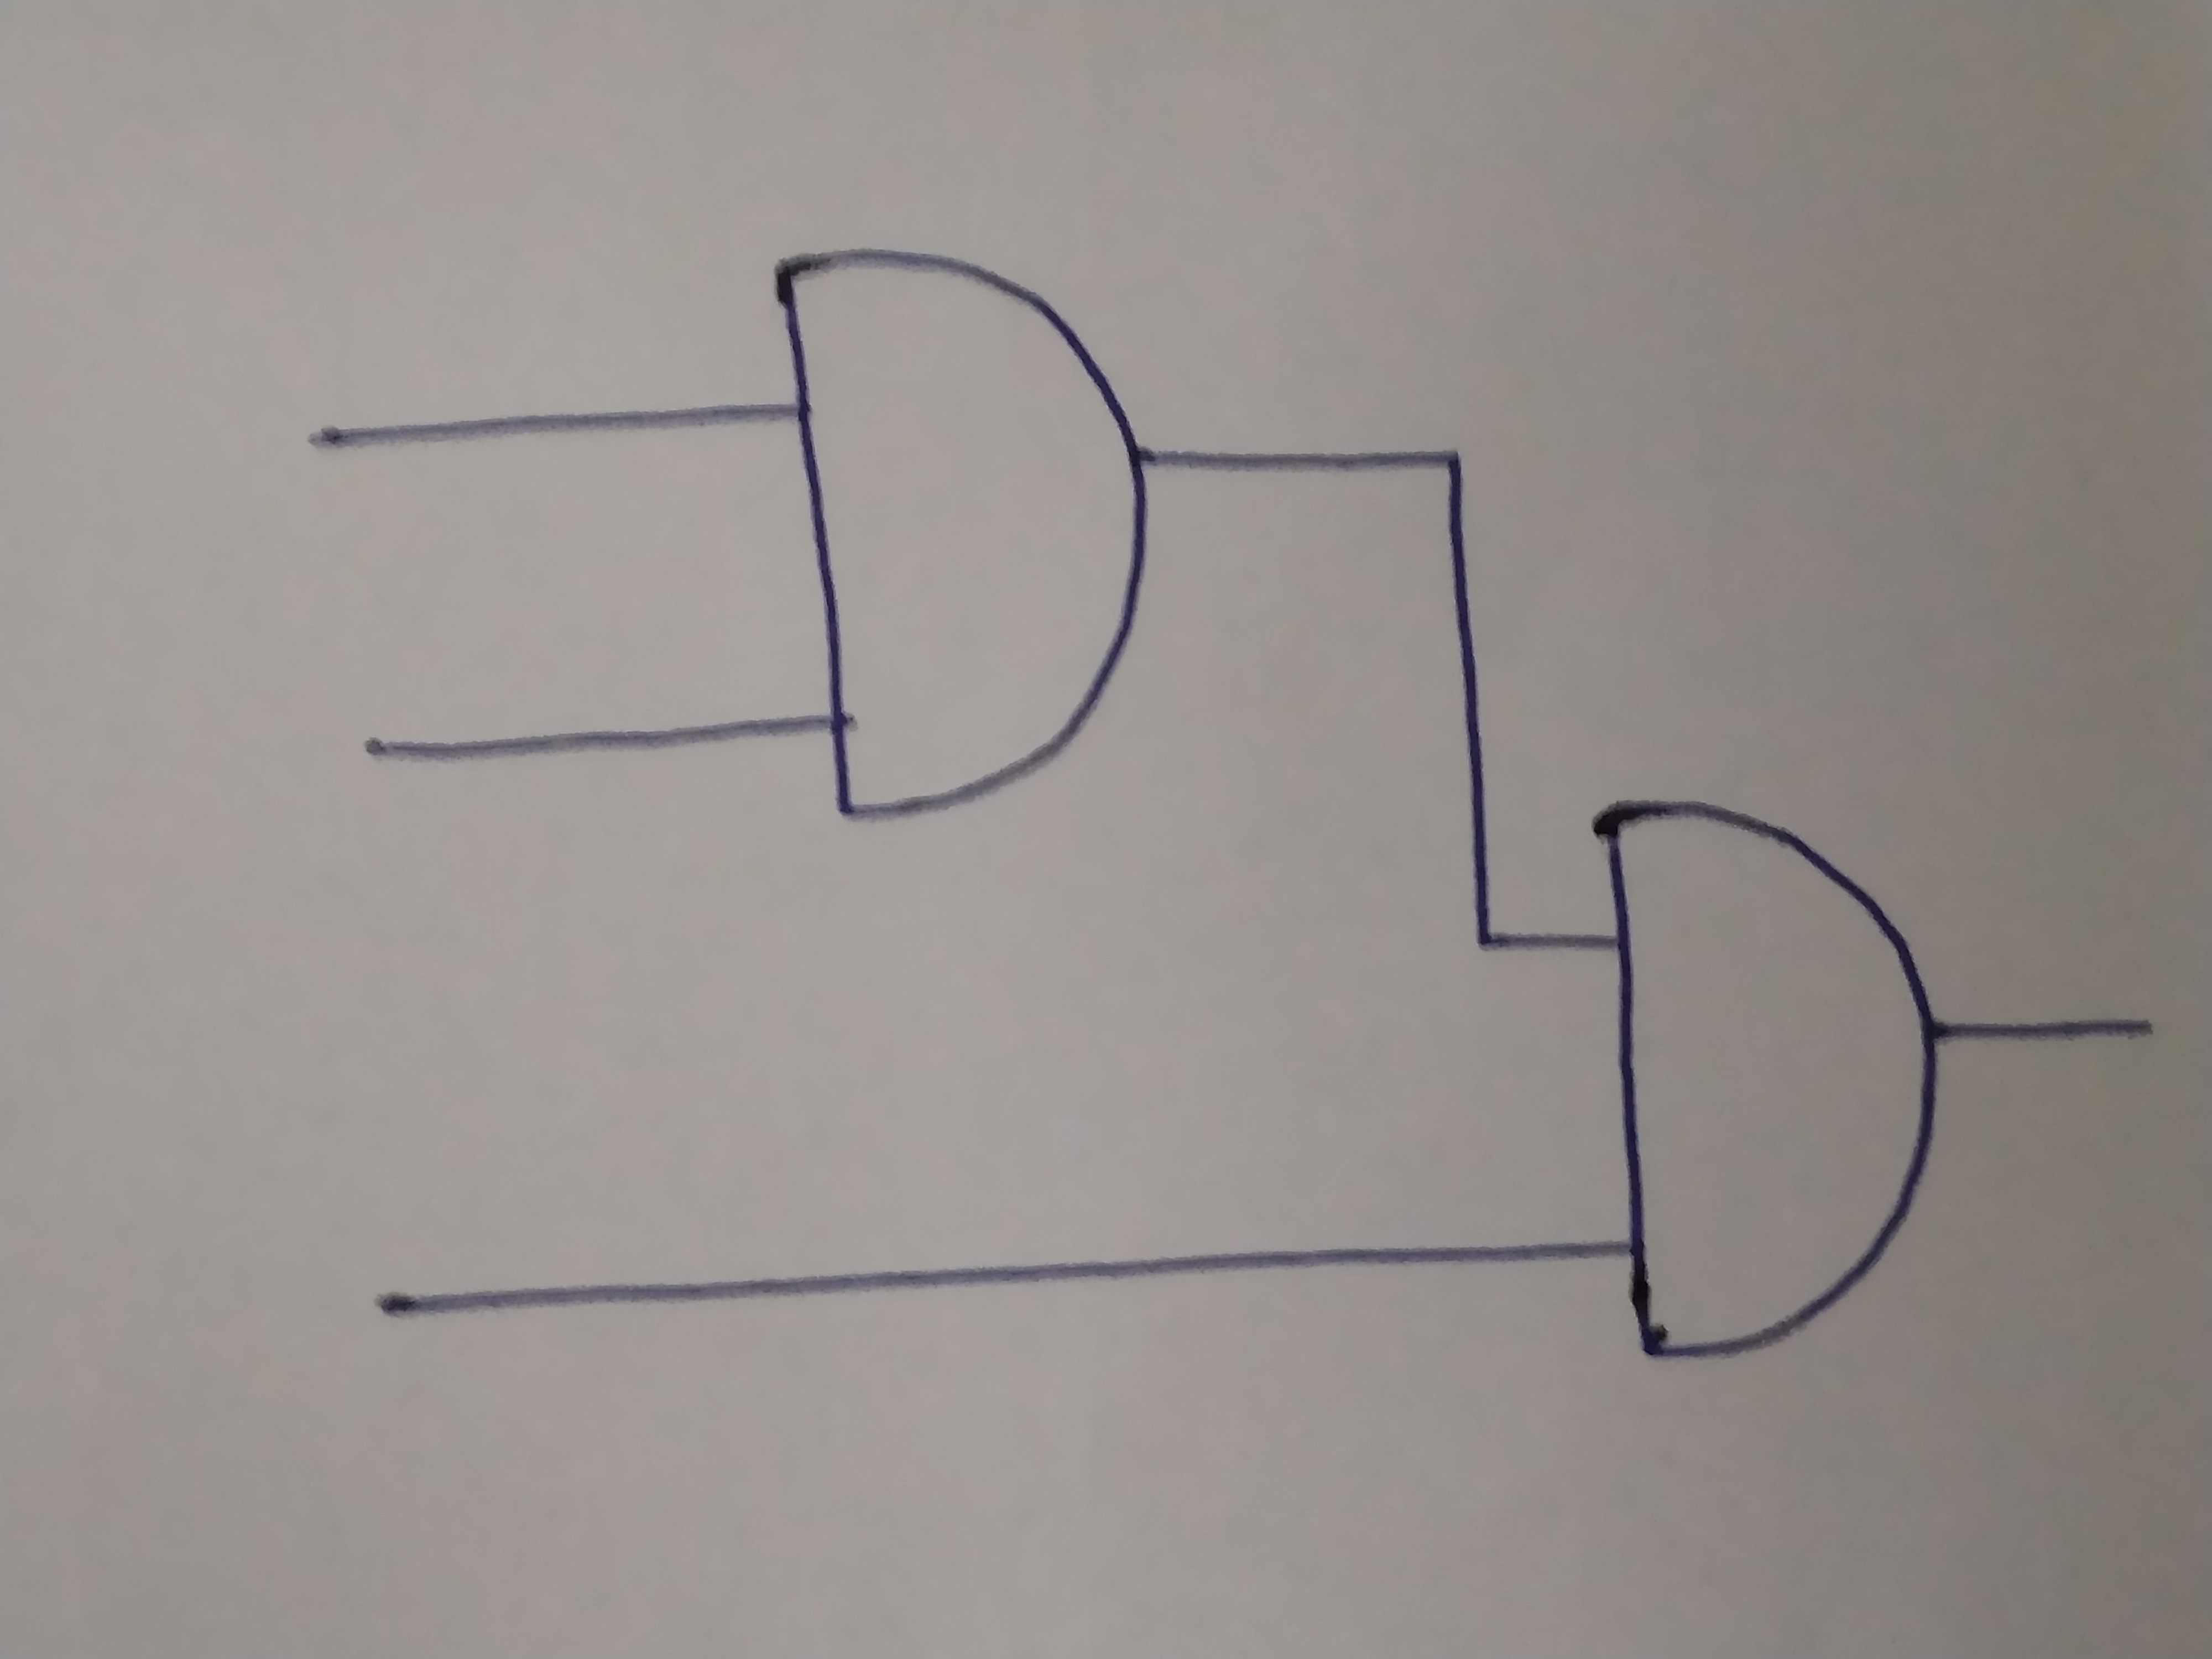and: (775, 253, 1151, 814), (1594, 800, 1928, 1354)
